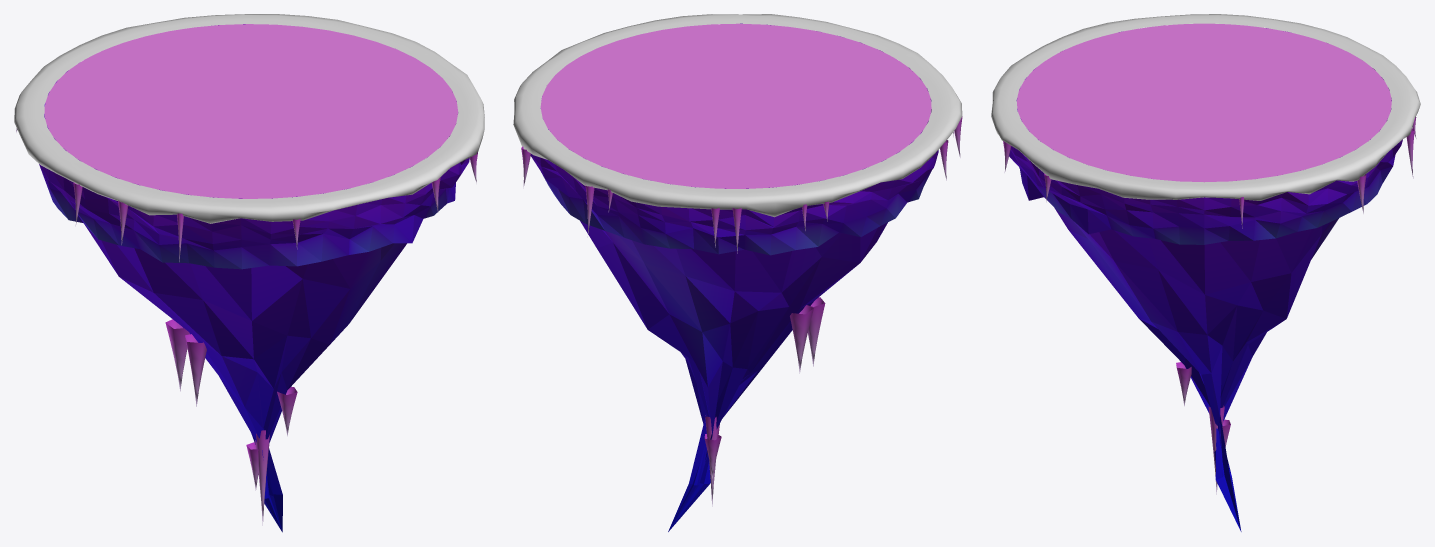
Rendered from Kit_Floe_A.fbx.
The picture shows the model from 3 angles, left to right: view 1: azimuth 30°, elevation 25°; view 2: azimuth 150°, elevation 25°; view 3: azimuth 270°, elevation 25°; orthographic projection. The views are drawn at different scales.
Parts seen in each view (by area): view 1: Floe_A; view 2: Floe_A; view 3: Floe_A.
Boxes of the visible parts, x1,y1,x2,y2 form: Floe_A: [14, 14, 484, 532]; Floe_A: [513, 14, 962, 531]; Floe_A: [991, 14, 1420, 531].
Size of the model in its own units: 6.58 by 6.95 by 6.64.
